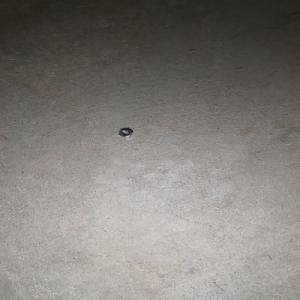Nut: (118, 129, 133, 138)
